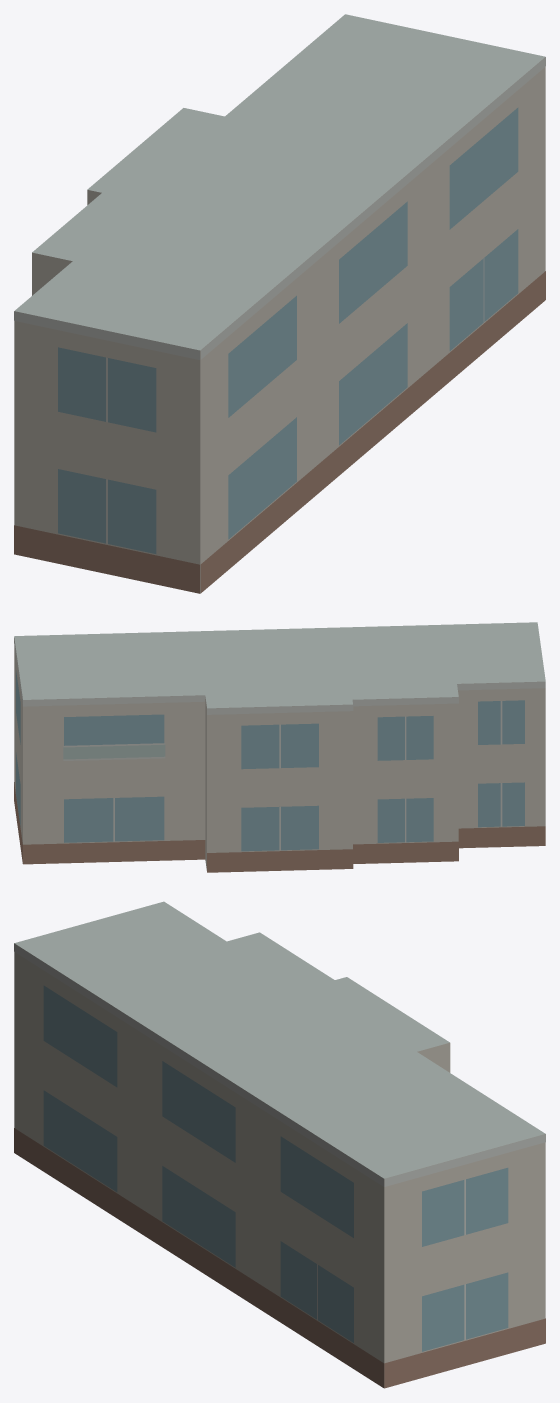
File: survey-upis-32811930.glb
3 views of the same model, one above another, from view 1: azimuth 30°, elevation 25°; view 2: azimuth 150°, elevation 25°; view 3: azimuth 270°, elevation 25° (orthographic). The views are drawn at different scales.
Parts seen in each view (by area): view 1: survey-upis-32811930.tmp; view 2: survey-upis-32811930.tmp; view 3: survey-upis-32811930.tmp.
Boxes of the visible parts, bbox=[...] form: survey-upis-32811930.tmp: bbox=[14, 14, 545, 593]; survey-upis-32811930.tmp: bbox=[14, 622, 545, 872]; survey-upis-32811930.tmp: bbox=[14, 901, 545, 1388].
Bounding box in the file's own units: 17.31 × 6.1 × 14.03.
